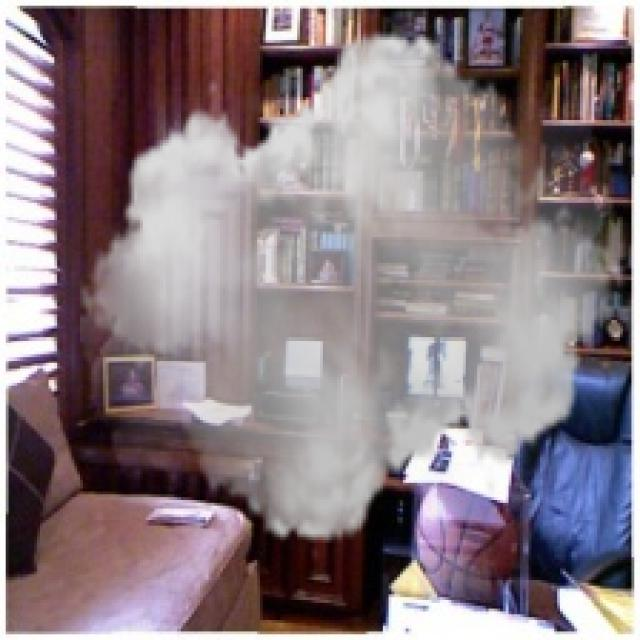smoke: (80, 11, 626, 563)
